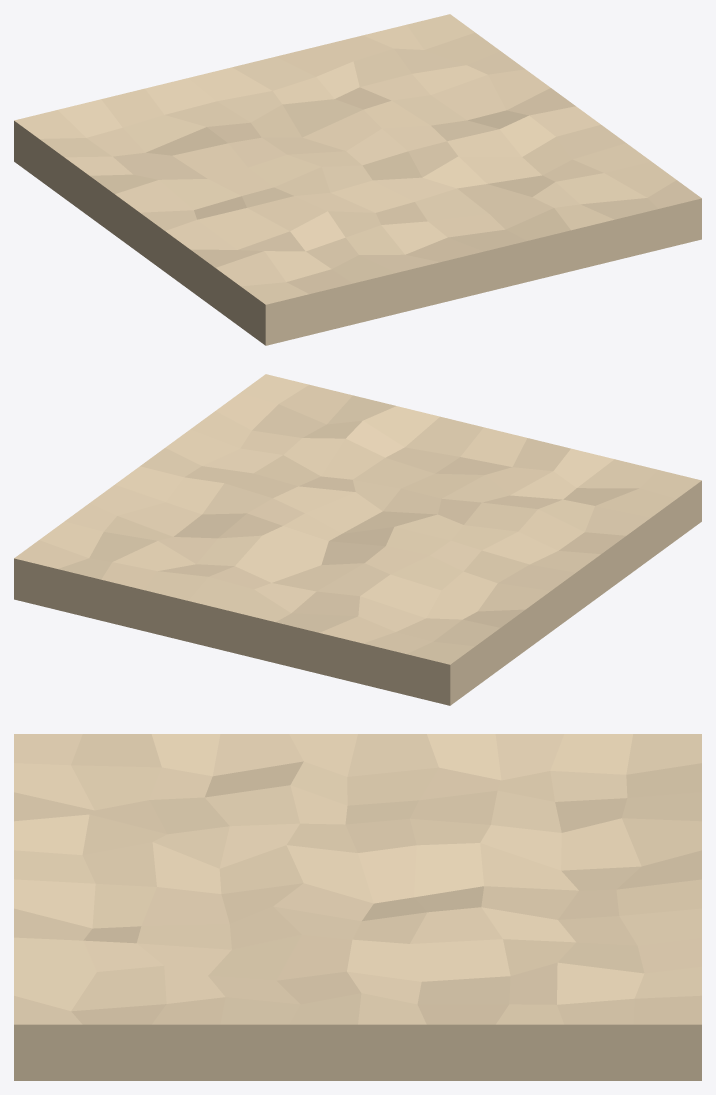
The model's file is SM_Ground_Sand.glb.
The picture shows the model from 3 angles, top to bottom: view 1: azimuth 30°, elevation 25°; view 2: azimuth 150°, elevation 25°; view 3: azimuth 270°, elevation 25°; orthographic projection. The views are drawn at different scales.
Visible parts, largest first — view 1: SM_Ground_Sand; view 2: SM_Ground_Sand; view 3: SM_Ground_Sand.
Part boxes in pixels (x1,y1,x2,y2): SM_Ground_Sand: (14, 14, 701, 345); SM_Ground_Sand: (14, 374, 701, 705); SM_Ground_Sand: (14, 734, 701, 1080).
Bounding box in the file's own units: 2 × 0.1995 × 2.
